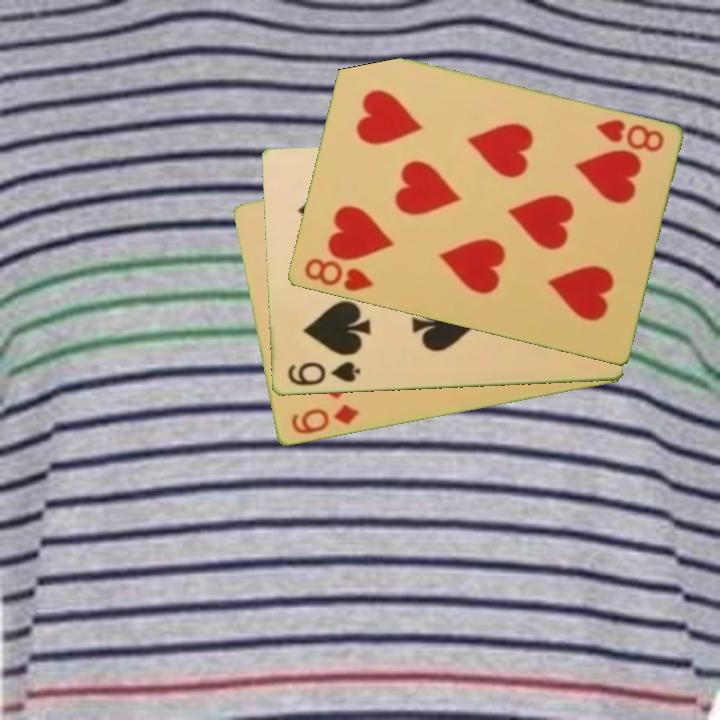6d: (287, 401, 362, 438)
6s: (284, 358, 363, 390)
8h: (300, 255, 376, 295), (592, 116, 667, 155)
